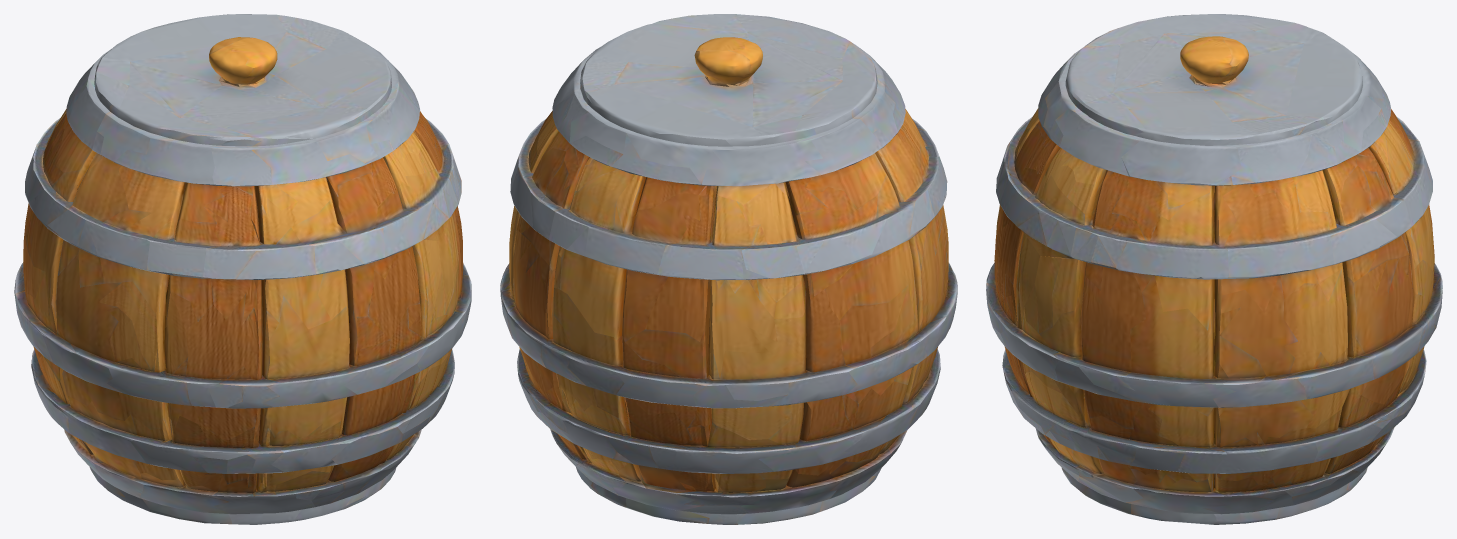
Rendered from barrel.glb.
3 renders of one model, left to right at view 1: azimuth 30°, elevation 25°; view 2: azimuth 150°, elevation 25°; view 3: azimuth 270°, elevation 25°, orthographic.
Bounding box in the file's own units: 1.89 × 1.9 × 1.9.
1 material, 1 textured.
